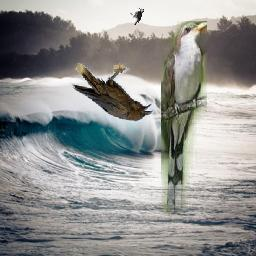Crow: (70, 64, 154, 125)
Cuckoo: (161, 22, 207, 217)
Woodpecker: (130, 7, 144, 25)
